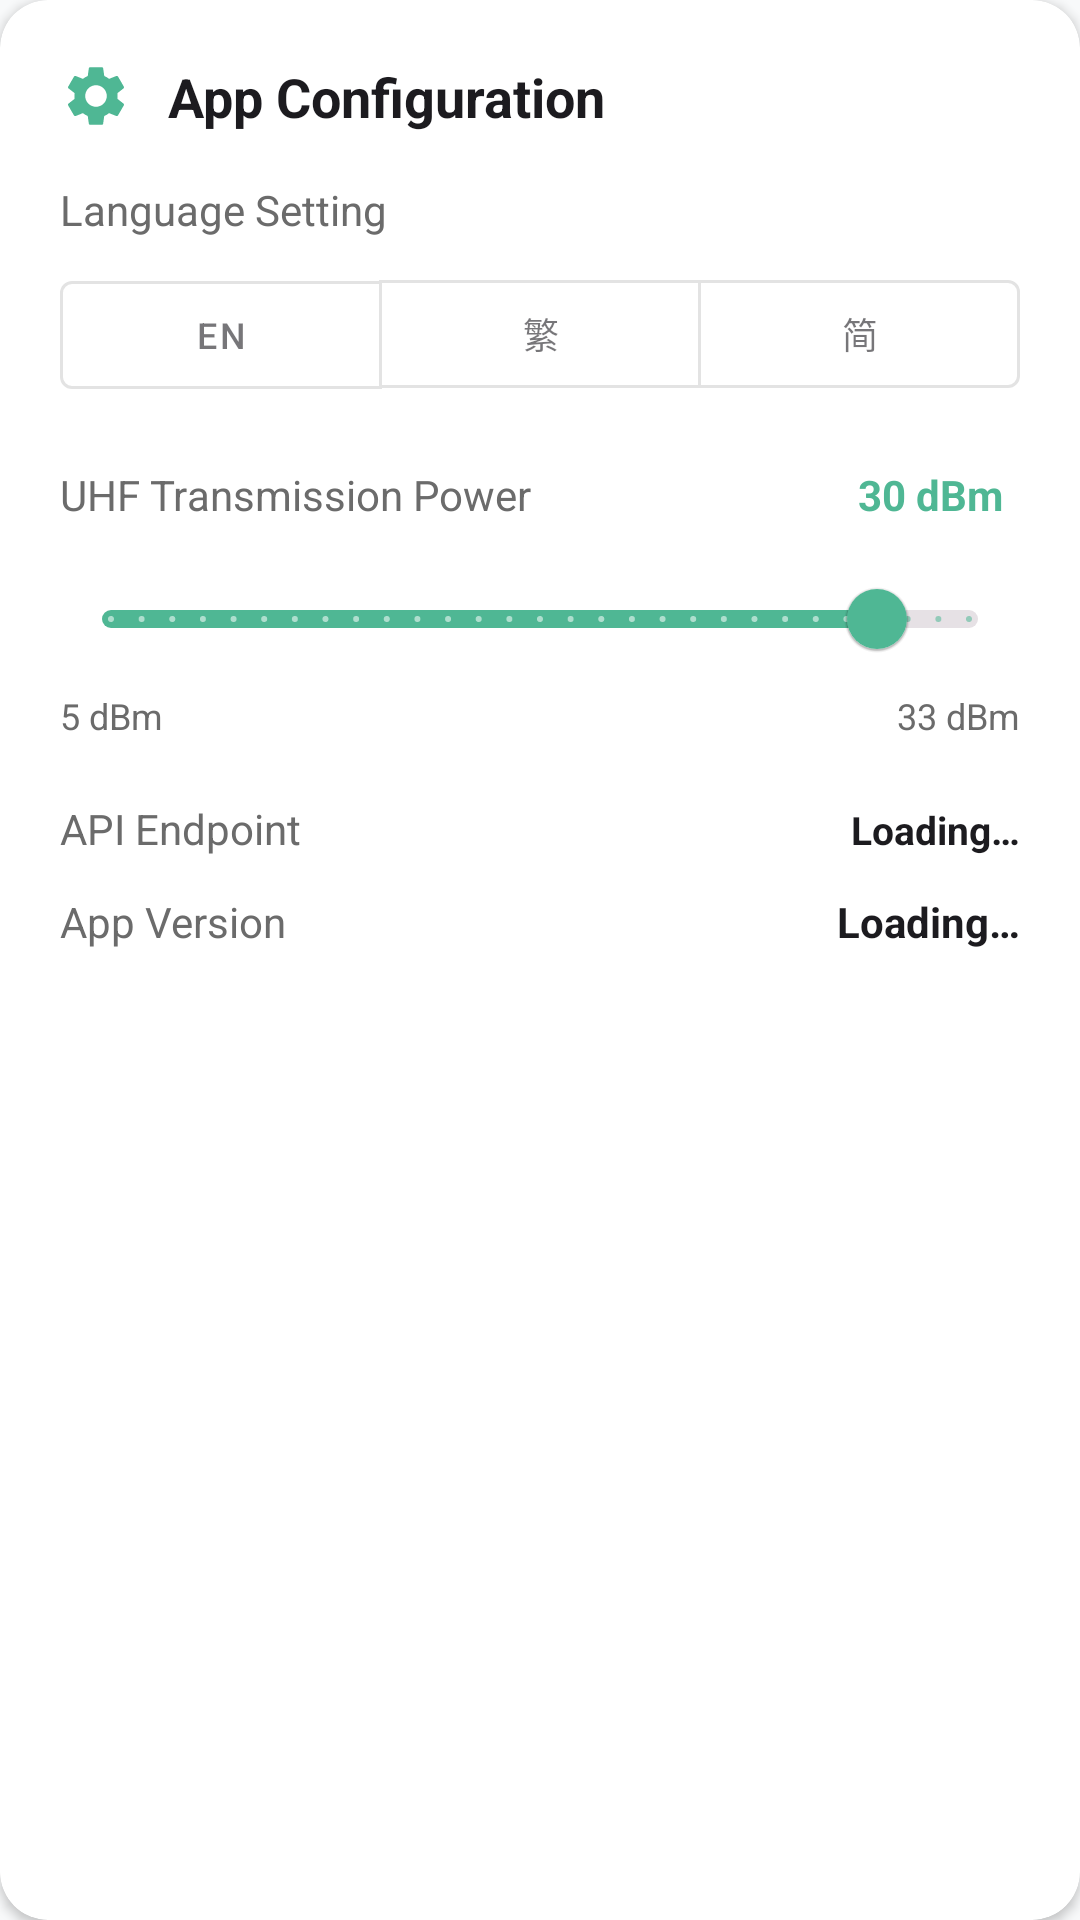

Icons on this 1080w x 1920h Android screen, each with its box as bbox=(x1, y1, x2, y2):
settings: bbox=(68, 67, 124, 125)
